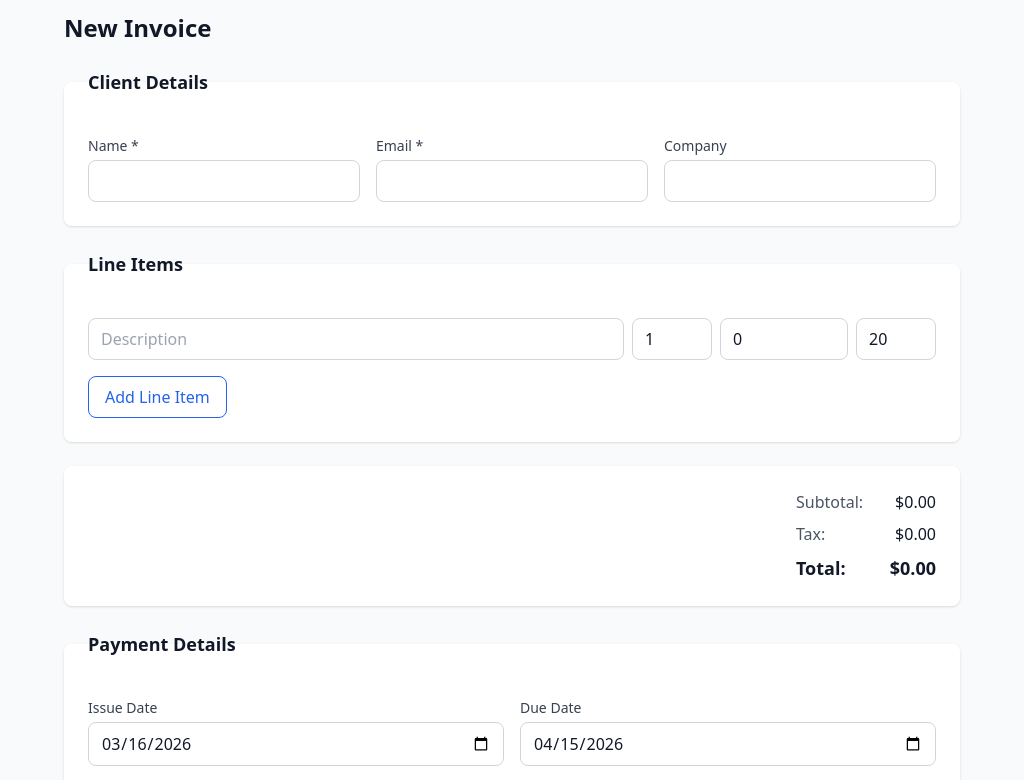
Test: InvoiceForm › calculates totals correctly
Replace the text in the 1st number field with placeholder "Qty" with "2". click: coordinates (672, 339)
box: 632,318 -> 712,360
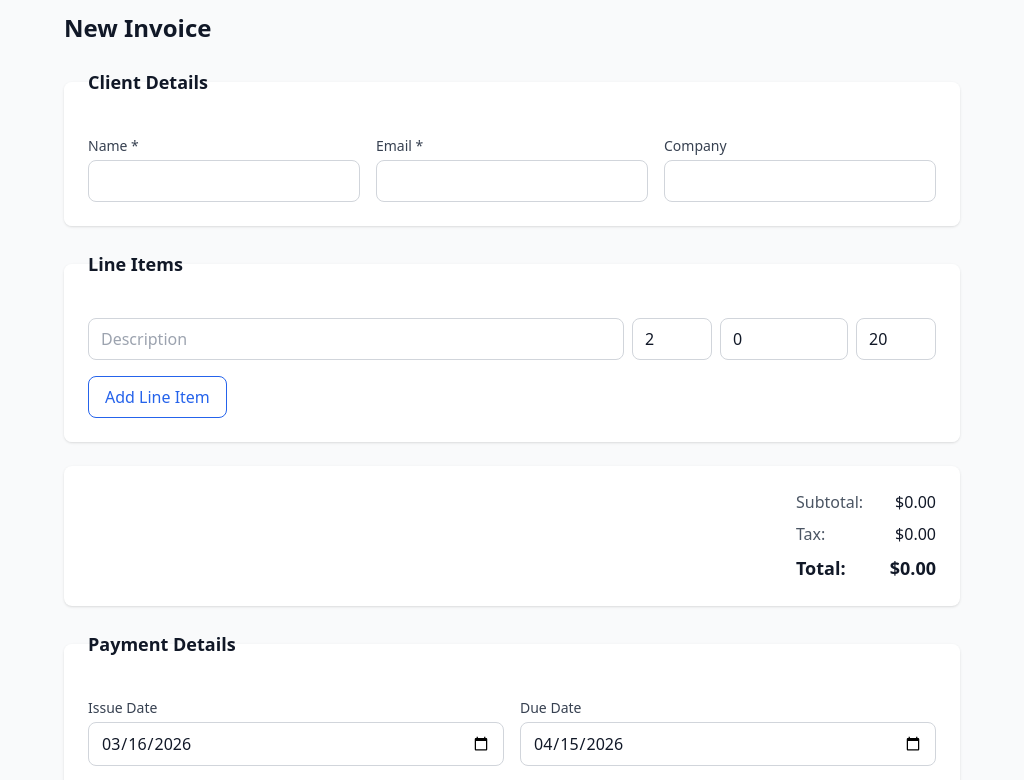
Replace the text in the 2nd number field with placeholder "Price" with "100". click: coordinates (784, 339)
box: 720,318 -> 848,360
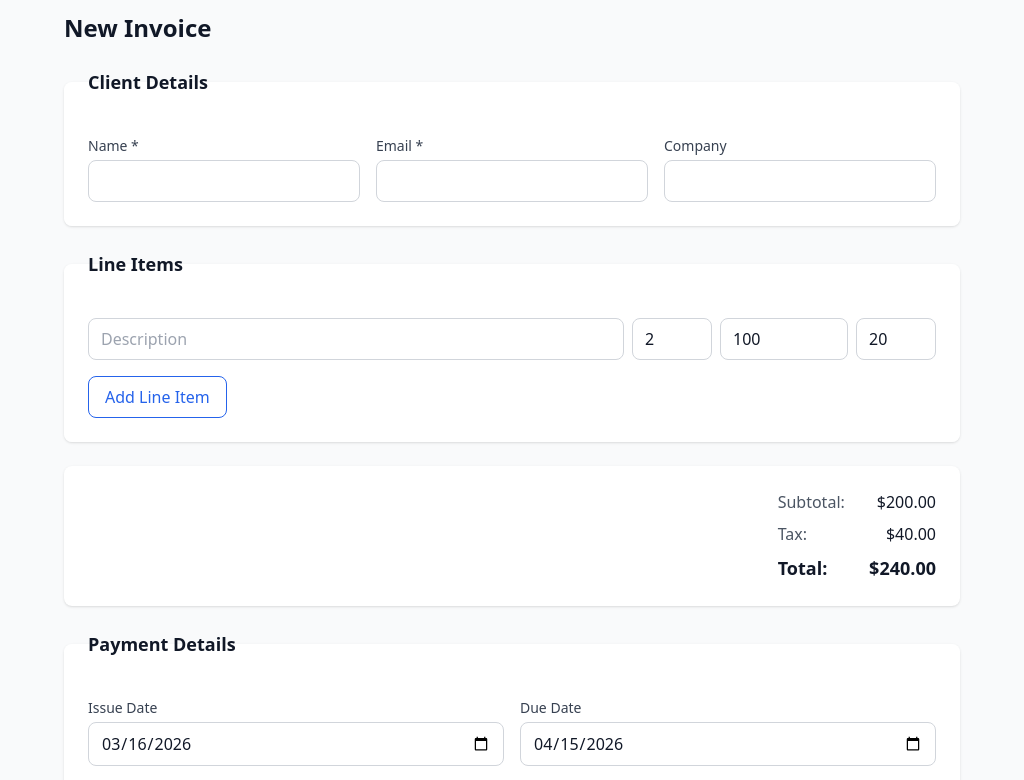
expect the text "$200.00" is shown: met, box 877,490 -> 936,514
expect the text "$40.00" is shown: met, box 886,522 -> 936,546
expect the text "$240.00" is shown: met, box 869,554 -> 936,582
